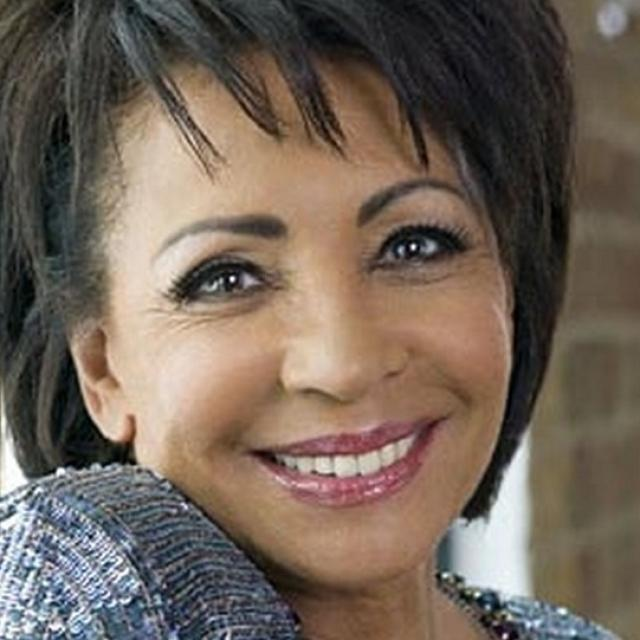Normal: (92, 39, 508, 583)
